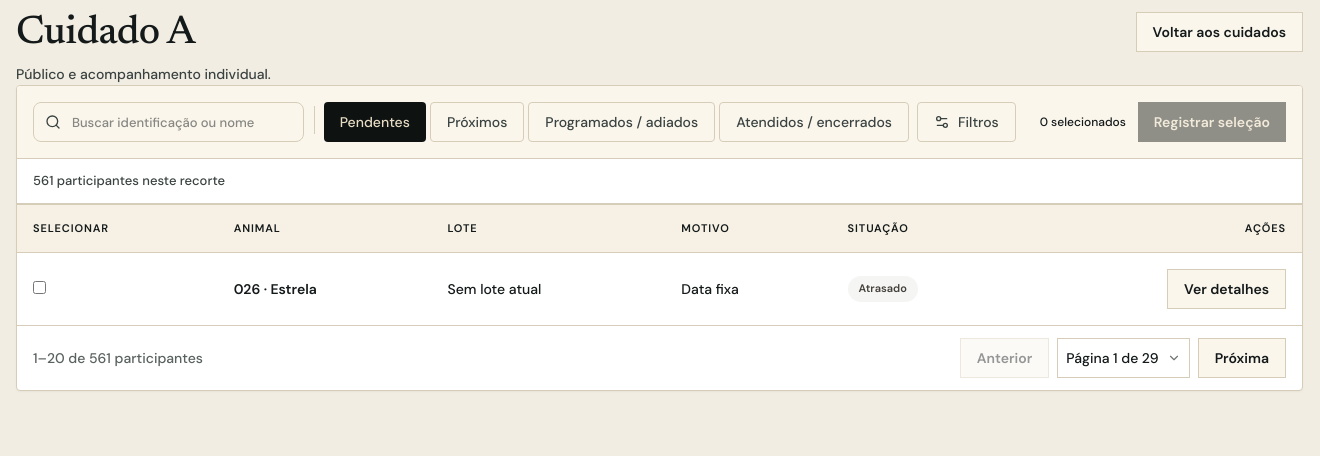
Test: participantes do cuidado › permite selecionar participante atrasado para o atendimento coletivo
Expected: the text "561 participantes neste recorte" is shown, [17,159,1302,204]
Click the checkbox named "Selecionar 026".
click(40, 288)  # box [33,281,46,294]
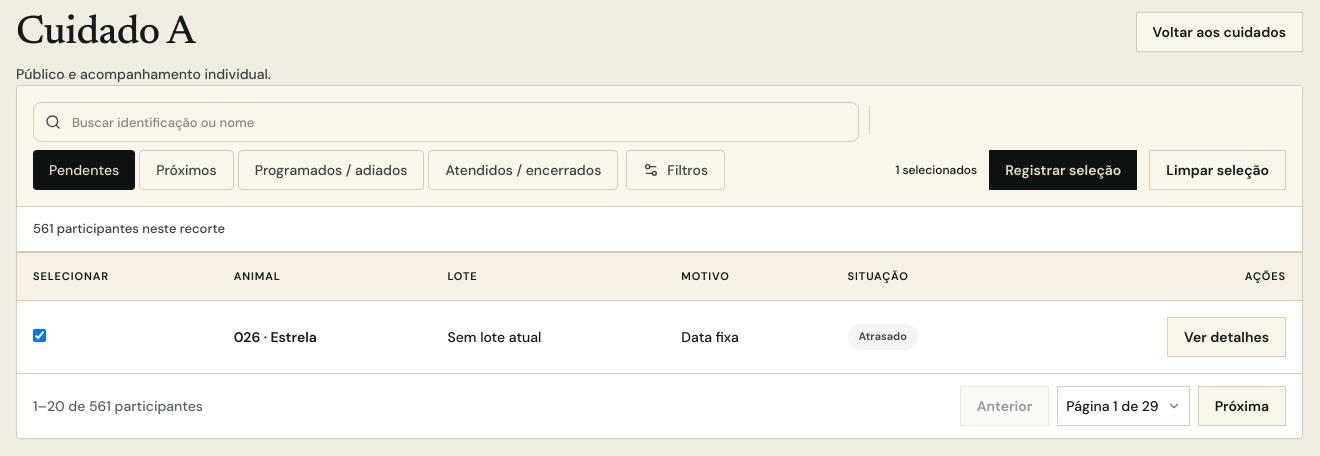
Expected: the text "1 selecionados" is shown, [895,161,977,179]
